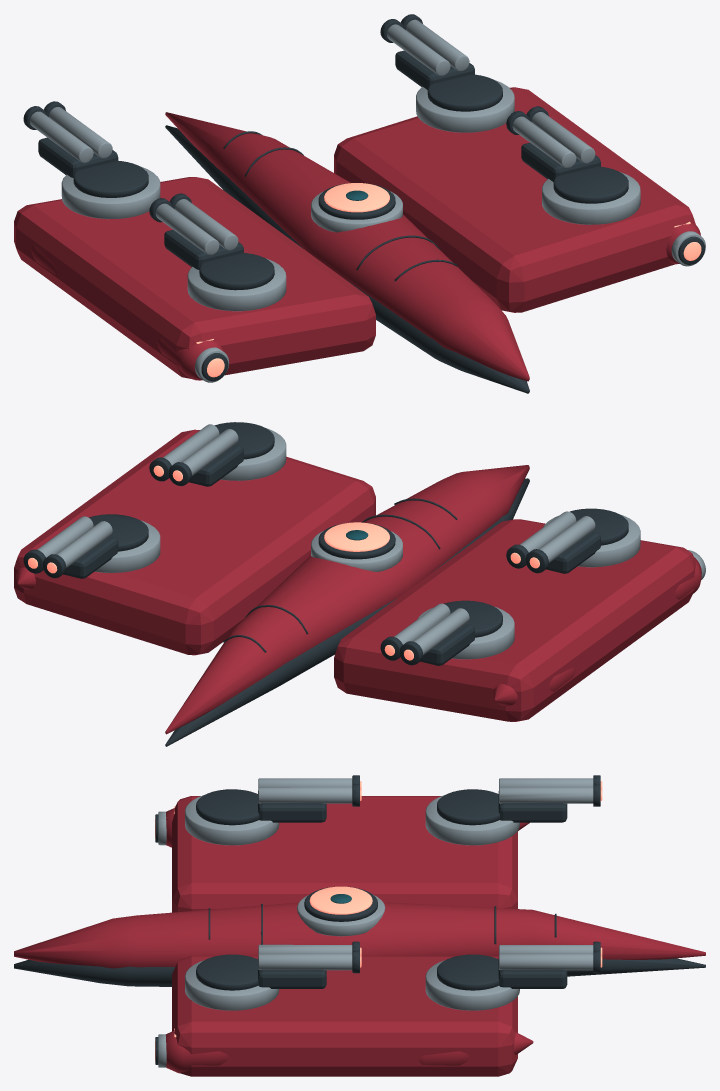
The model's file is boss-1-p2.glb.
3 renders of one model, top to bottom at view 1: azimuth 30°, elevation 25°; view 2: azimuth 150°, elevation 25°; view 3: azimuth 270°, elevation 25°, orthographic. The views are drawn at different scales.
Visible parts, largest first — view 1: SM_Hull, SM_Weapon_Left, SM_Weapon_Right, SM_Engine_Left, SM_Engine_Right; view 2: SM_Hull, SM_Weapon_Right, SM_Weapon_Left, SM_Engine_Left; view 3: SM_Hull, SM_Weapon_Left, SM_Weapon_Right, SM_Engine_Right, SM_Engine_Left.
Boxes of the visible parts, <box> form: SM_Hull: <box>14,74,695,393</box>; SM_Weapon_Left: <box>23,101,243,269</box>; SM_Weapon_Right: <box>380,14,600,181</box>; SM_Engine_Left: <box>31,246,228,382</box>; SM_Engine_Right: <box>666,221,705,266</box>; SM_Hull: <box>14,422,695,746</box>; SM_Weapon_Right: <box>23,424,243,578</box>; SM_Weapon_Left: <box>380,511,600,665</box>; SM_Engine_Left: <box>493,550,705,705</box>; SM_Hull: <box>14,789,705,1076</box>; SM_Weapon_Left: <box>258,775,602,822</box>; SM_Weapon_Right: <box>258,941,602,988</box>; SM_Engine_Right: <box>155,1028,533,1073</box>; SM_Engine_Left: <box>155,806,529,847</box>.
Bounding box in the file's own units: 7.64 × 1.7 × 9.2.
